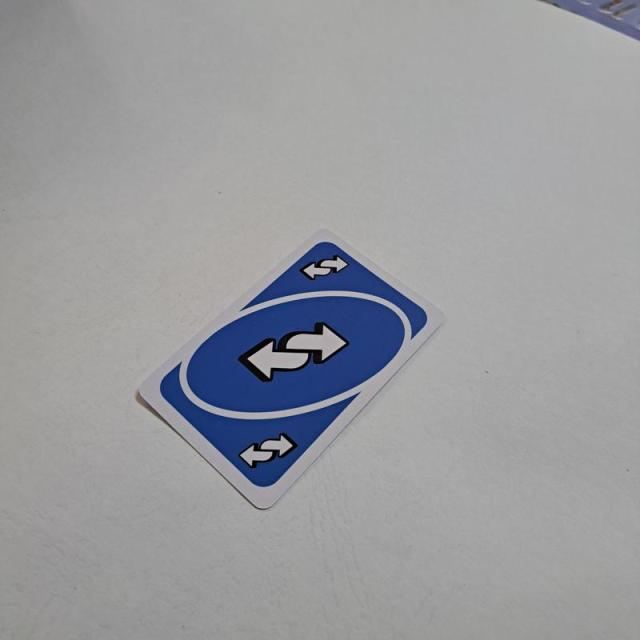Blue_Card: (155, 234, 435, 495)
Reverse: (299, 247, 353, 285)
